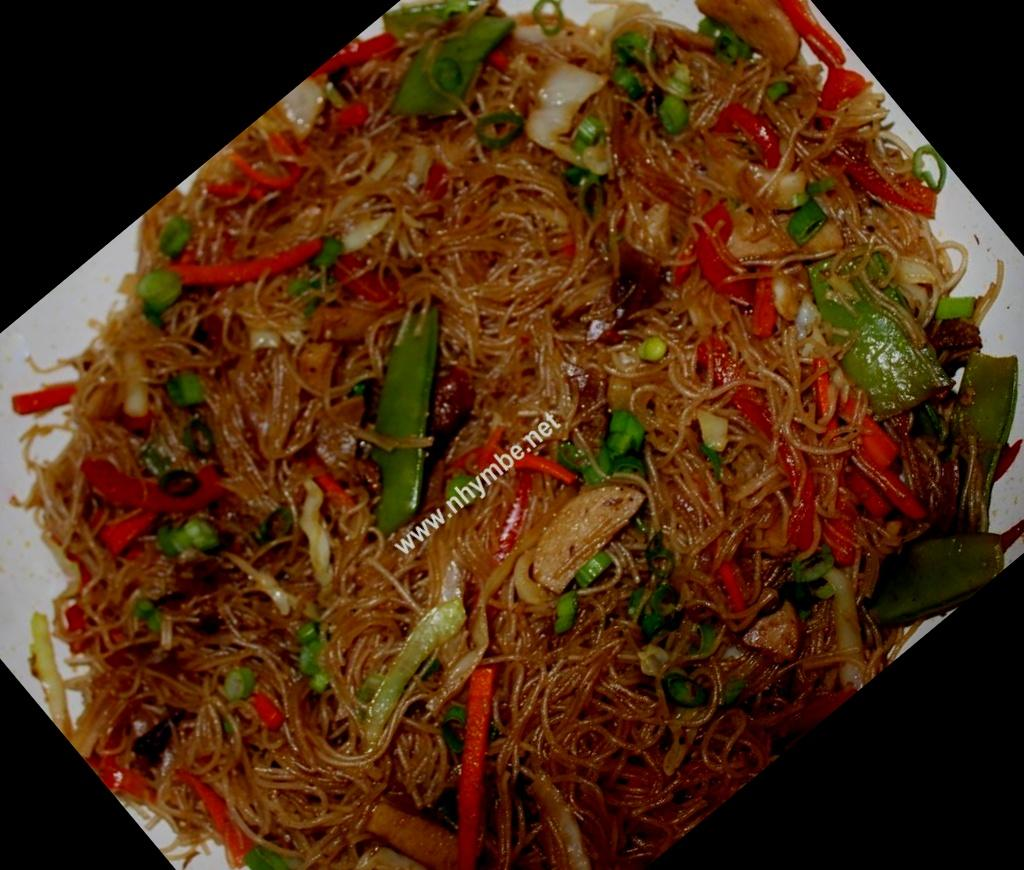pancit bihon: (62, 0, 984, 869)
